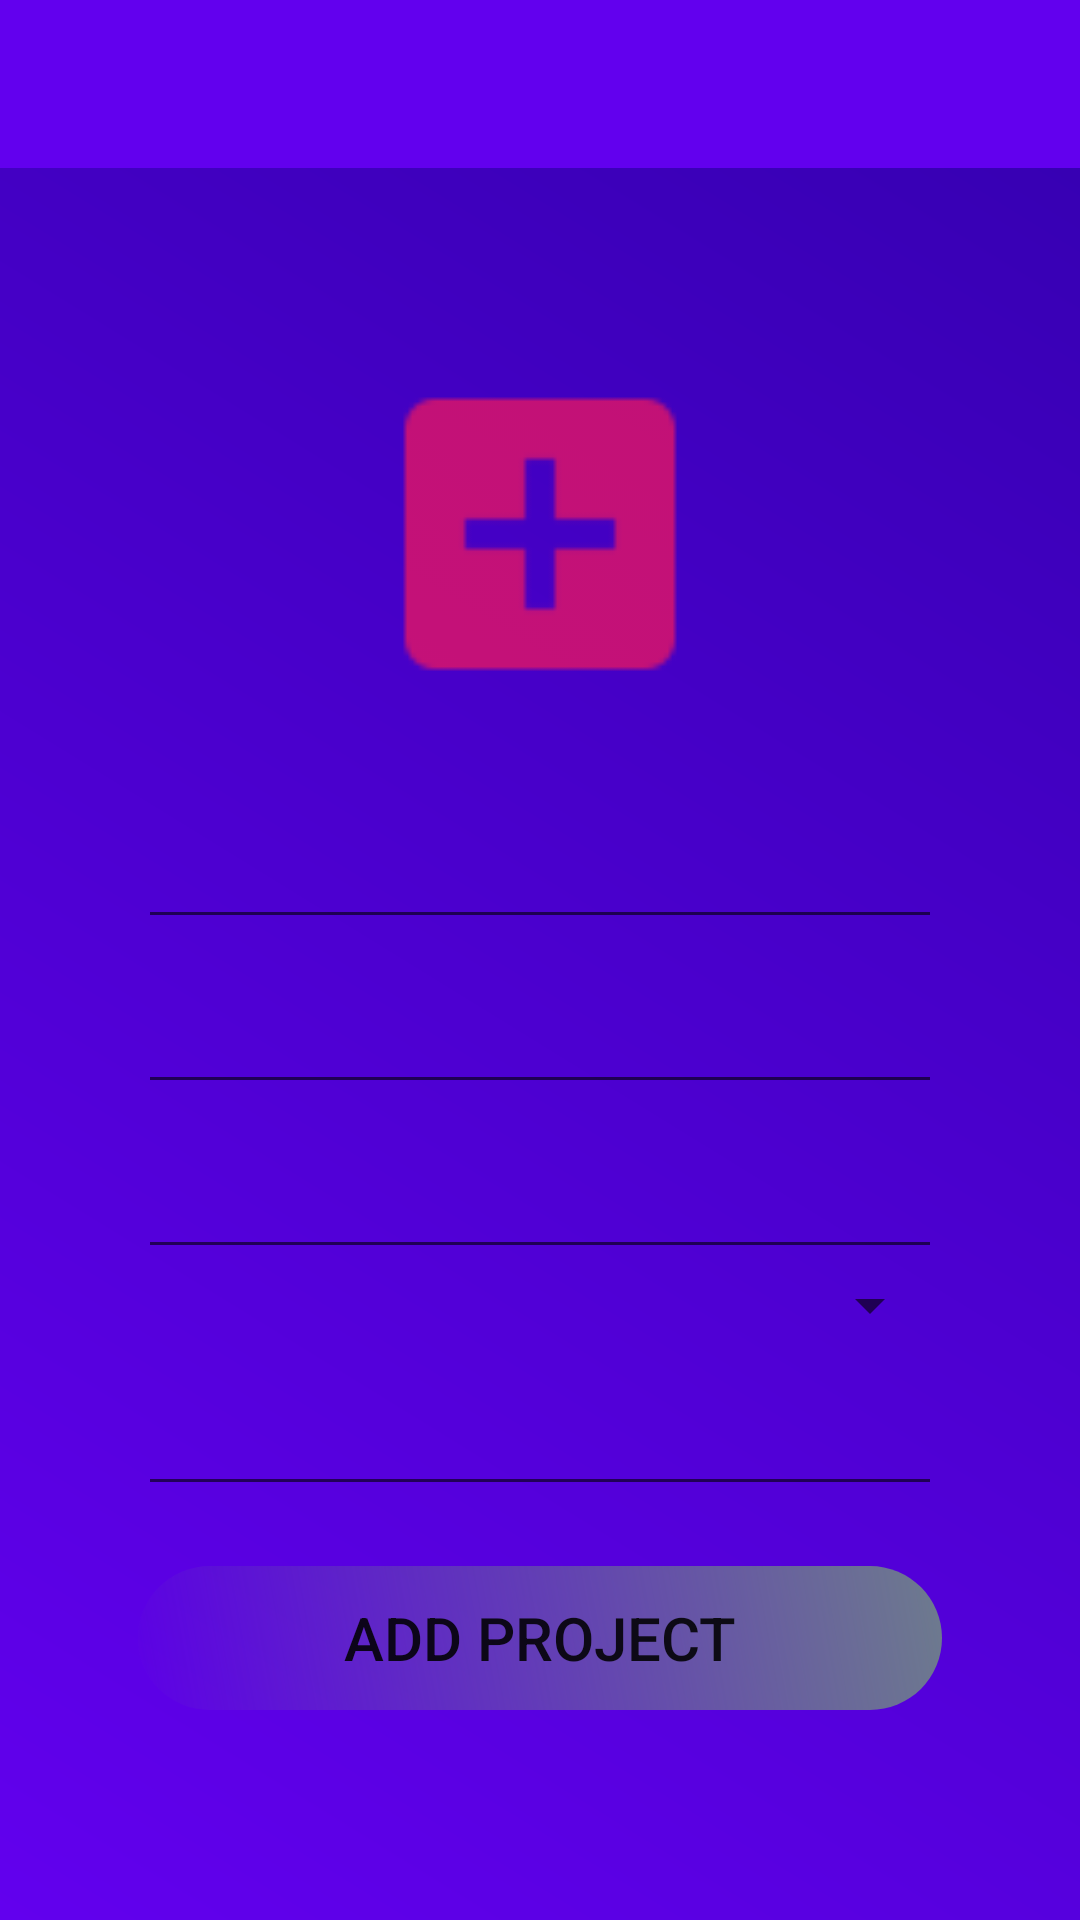

Icon click points for this 1080px×1920px phone screenshot, format (x,y):
add: (540,534)
